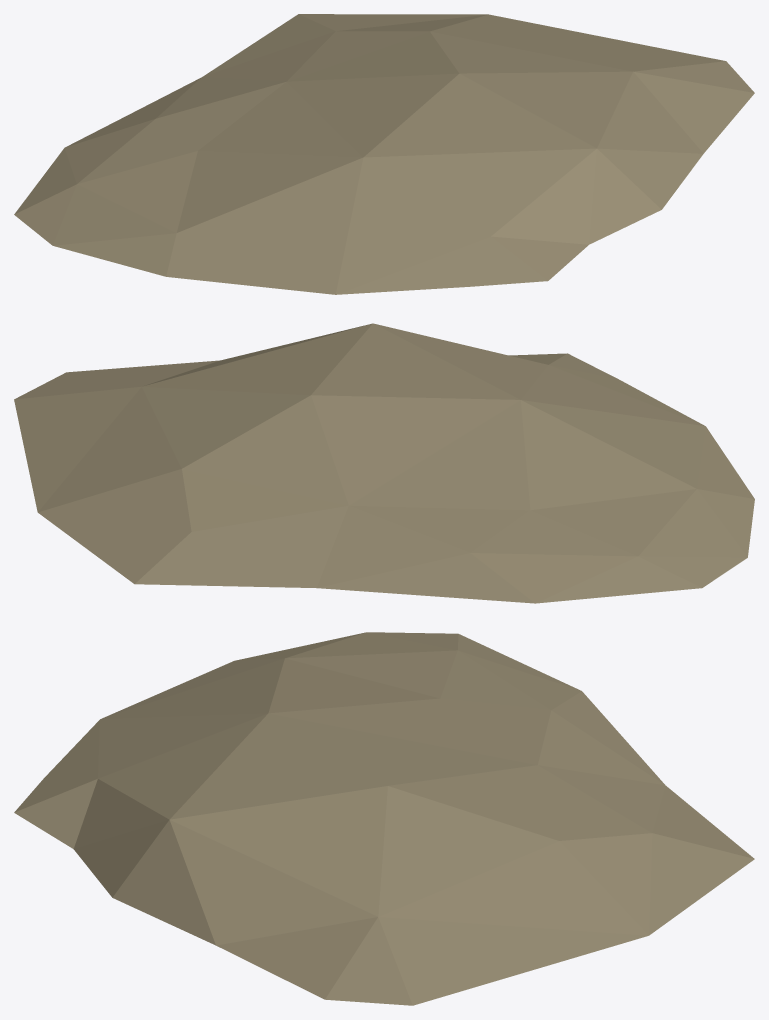
Rendered from Floor_Sand_sml.fbx.
3 renders of one model, top to bottom at view 1: azimuth 30°, elevation 25°; view 2: azimuth 150°, elevation 25°; view 3: azimuth 270°, elevation 25°, orthographic. The views are drawn at different scales.
Visible parts, largest first — view 1: Floor_Sand_sml; view 2: Floor_Sand_sml; view 3: Floor_Sand_sml.
Boxes of the visible parts, left/top/right/bottom form: Floor_Sand_sml: left=14, top=14, right=754, bottom=294; Floor_Sand_sml: left=14, top=323, right=754, bottom=603; Floor_Sand_sml: left=14, top=632, right=754, bottom=1005.
Bounding box in the file's own units: 237 × 20.77 × 199.
